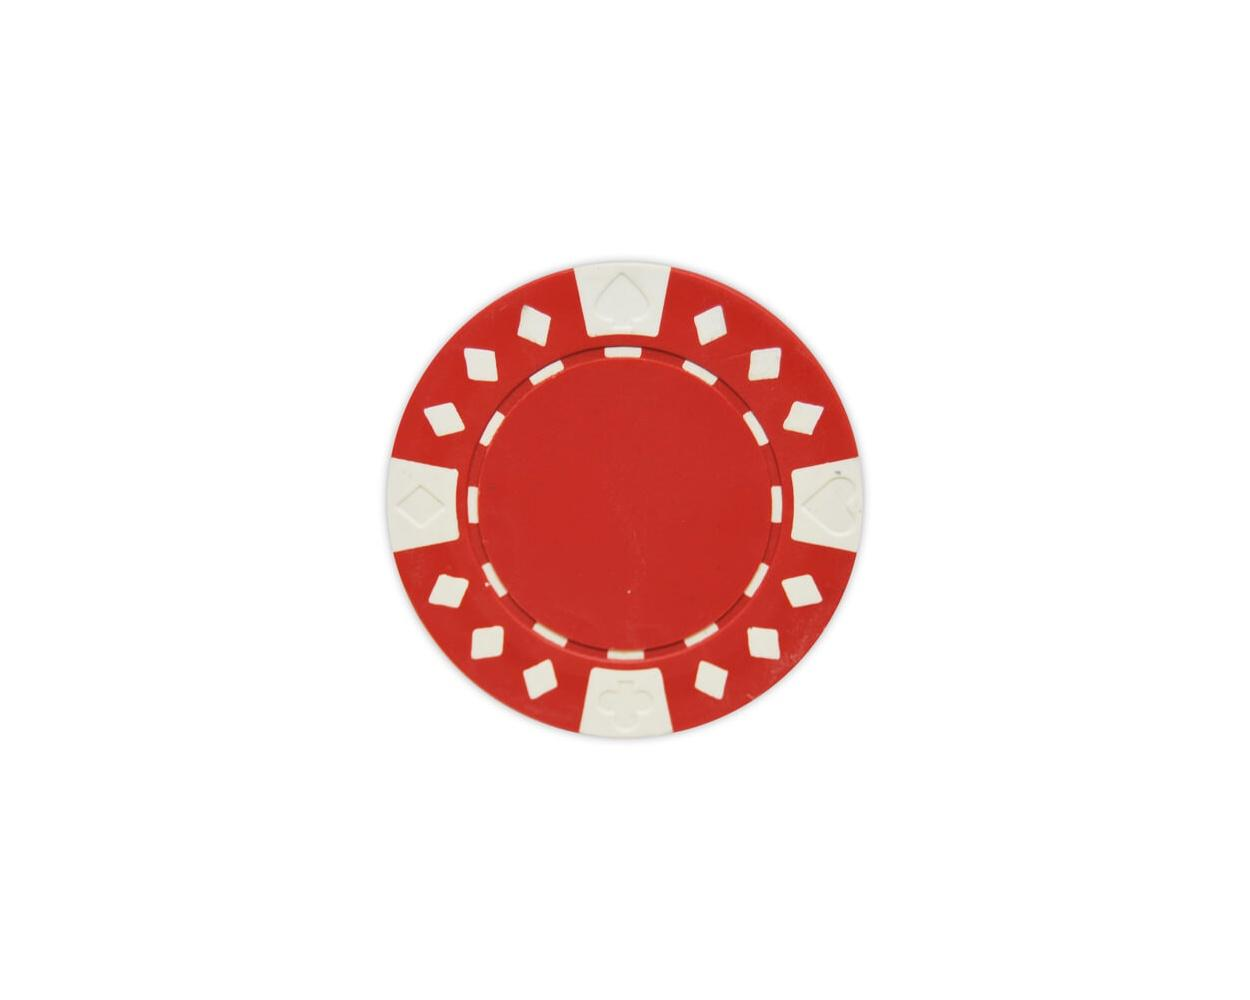chip-red: (386, 261, 864, 739)
